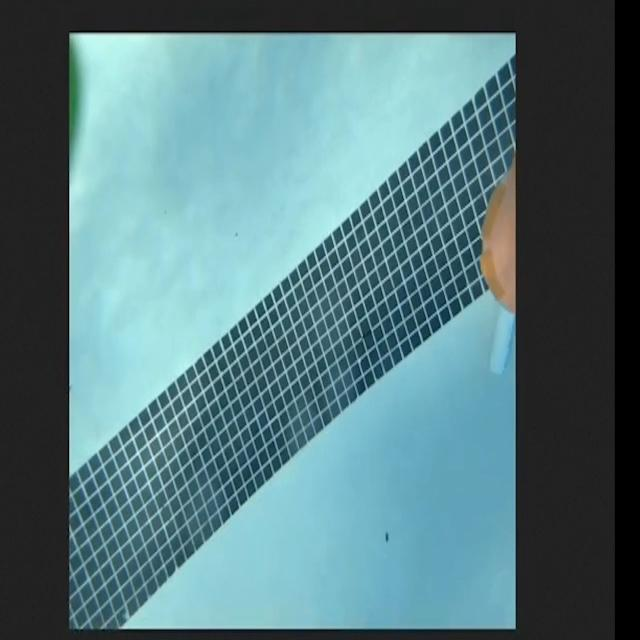Path: (479, 148, 516, 316)
